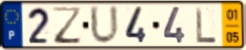2: (25, 4, 52, 46)
4: (124, 5, 151, 46), (162, 5, 189, 45)
L: (194, 5, 218, 45)
U: (88, 5, 121, 47)
Z: (51, 6, 83, 46)
